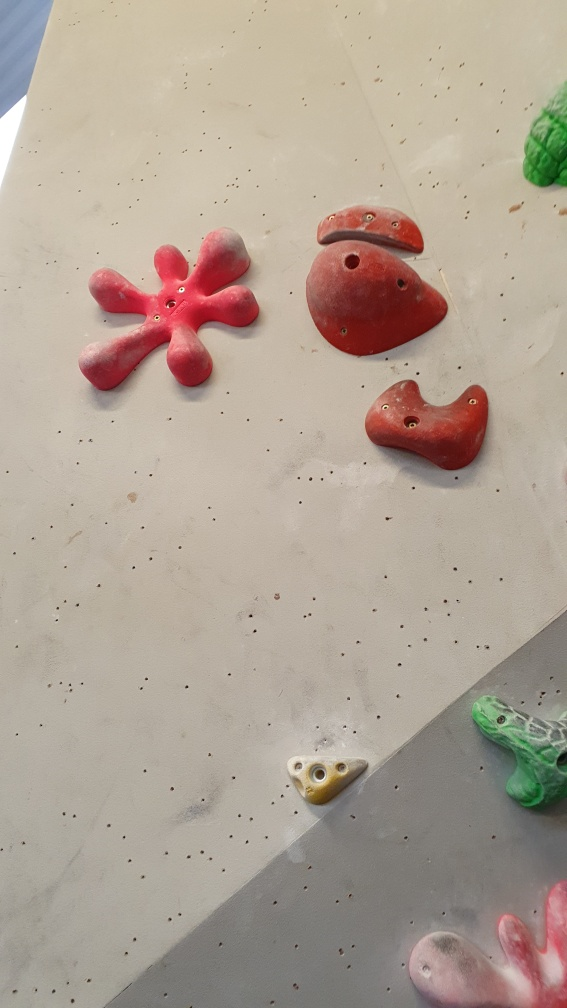Octopus Pinch: (74, 230, 262, 391), (403, 871, 566, 1007)
